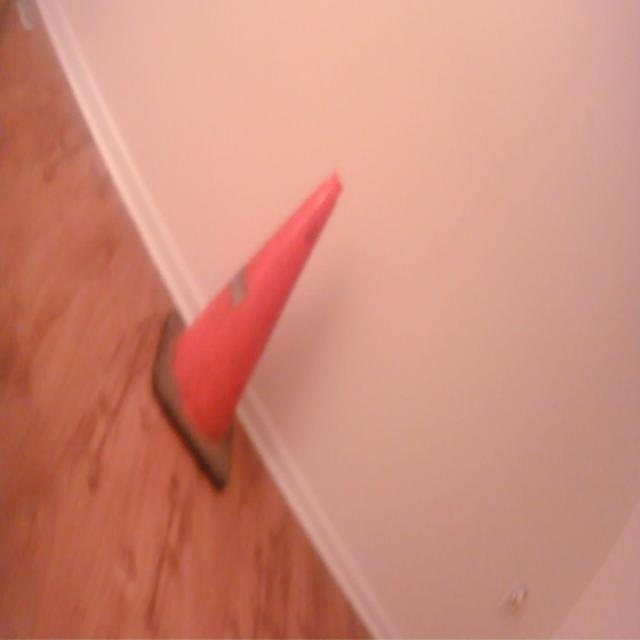traffic cone: (150, 165, 346, 501)
